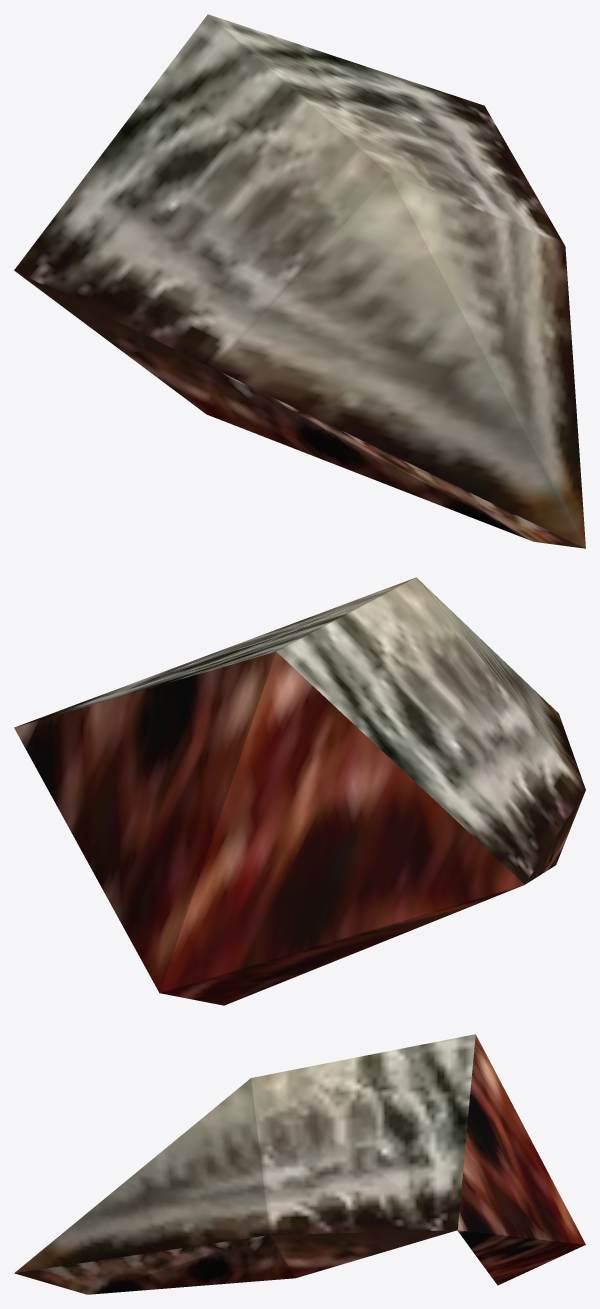
The model's file is ITAT_SHARKTEETH.glb.
3 views of the same model, one above another, from view 1: azimuth 30°, elevation 25°; view 2: azimuth 150°, elevation 25°; view 3: azimuth 270°, elevation 25° (orthographic). The views are drawn at different scales.
Parts seen in each view (by area): view 1: ITAT_SHARKTEETH; view 2: ITAT_SHARKTEETH; view 3: ITAT_SHARKTEETH.
Boxes of the visible parts, <box> form: ITAT_SHARKTEETH: <box>14,14,585,548</box>; ITAT_SHARKTEETH: <box>14,577,585,1005</box>; ITAT_SHARKTEETH: <box>14,1034,585,1294</box>.
Bounding box in the file's own units: 0.5615 × 0.3806 × 0.8143.
Materials: 1 (1 with a texture image).
